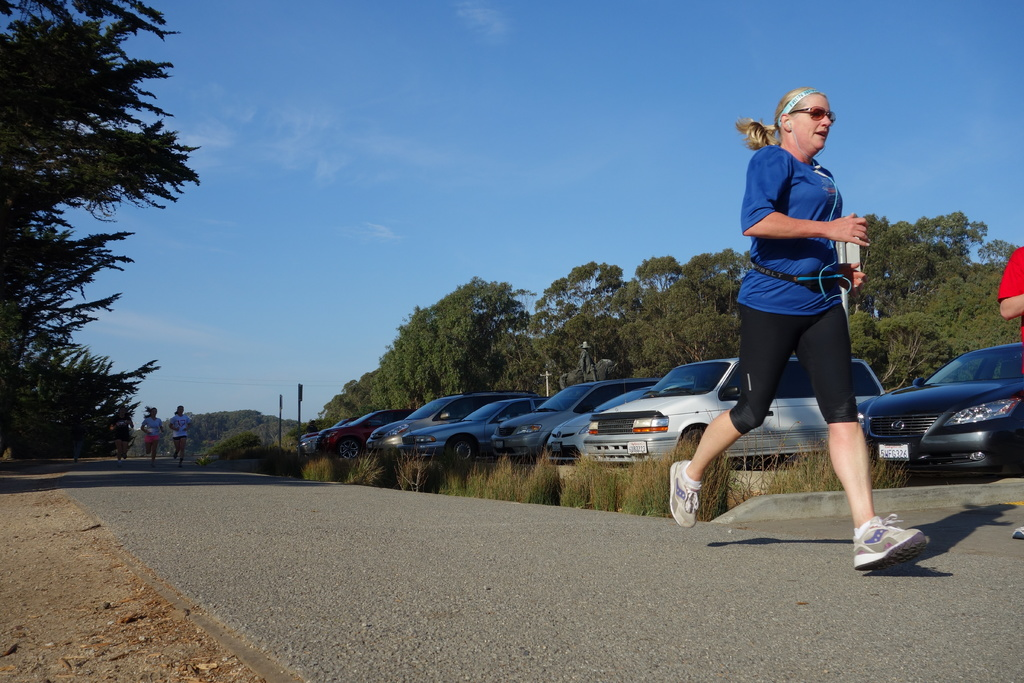Car: (297, 356, 882, 470), (871, 328, 1023, 490)
